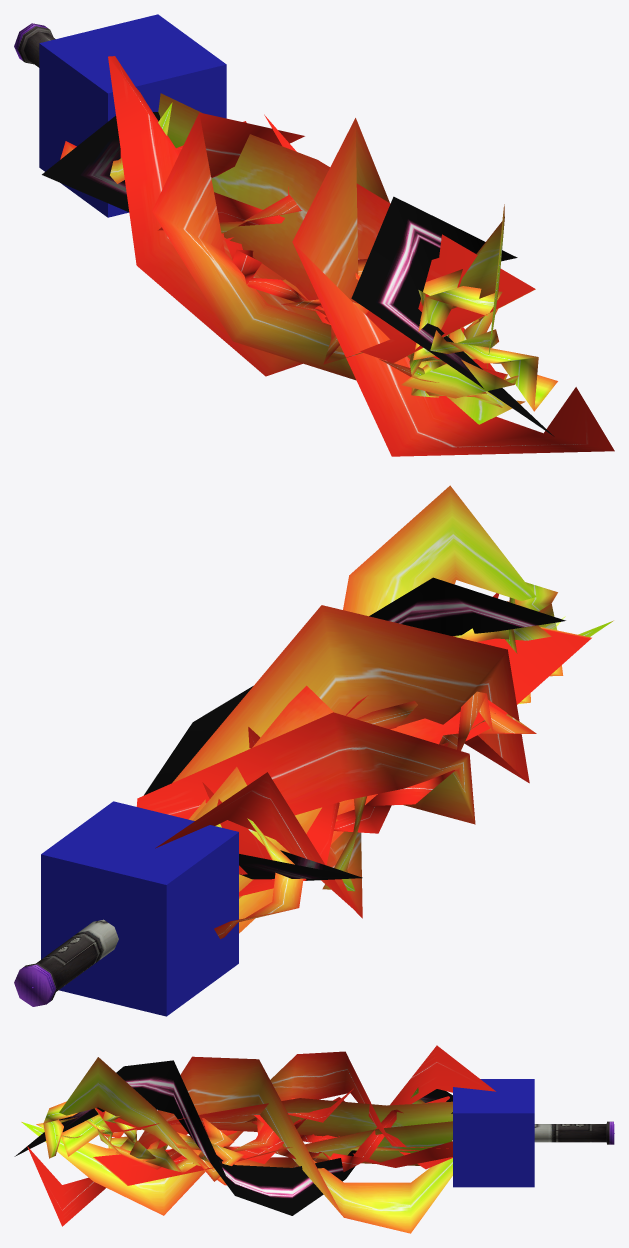
The picture shows the model from 3 angles, top to bottom: view 1: azimuth 30°, elevation 25°; view 2: azimuth 150°, elevation 25°; view 3: azimuth 270°, elevation 25°; orthographic projection. The views are drawn at different scales.
Visible parts, largest first — view 1: Object09, Object10, Box, Object04, Object03, Object08, Object11, Plane02, Object12, Plane254, W802:0; view 2: Box, Object09, Object10, Object03, Object08, Object04, W802:0, Object11, Plane02, Plane254, Object12, Plane31; view 3: Object09, Box, Object08, Object10, Object03, Object04, Plane31, Object12, Object11, Plane02, Plane254, W802:0.
Boxes of the visible parts, box(x1,y1,x2,y2) form: Object09: box(292, 118, 614, 456); Object10: box(152, 112, 525, 424); Box: box(39, 14, 226, 217); Object04: box(158, 93, 535, 363); Object03: box(108, 56, 504, 376); Object08: box(42, 112, 554, 436); Object11: box(225, 237, 557, 411); Plane02: box(158, 192, 502, 407); Object12: box(120, 121, 518, 398); Plane254: box(60, 102, 504, 405); W802:0: box(14, 23, 55, 67); Box: box(41, 801, 238, 1016); Object09: box(172, 593, 529, 783); Object10: box(136, 620, 613, 829); Object03: box(155, 485, 536, 918); Object08: box(144, 577, 565, 880); Object04: box(192, 627, 591, 898); W802:0: box(14, 919, 118, 1006); Object11: box(334, 582, 557, 833); Plane02: box(239, 629, 536, 896); Plane254: box(214, 616, 565, 938); Object12: box(202, 665, 563, 874); Plane31: box(189, 794, 377, 933); Object09: box(27, 1056, 452, 1233); Box: box(453, 1079, 534, 1187); Object08: box(14, 1060, 452, 1215); Object10: box(21, 1051, 448, 1215); Object03: box(59, 1045, 495, 1185); Object04: box(95, 1098, 452, 1137); Plane31: box(93, 1121, 452, 1185); Object12: box(36, 1096, 449, 1172); Object11: box(43, 1101, 452, 1181); Plane02: box(61, 1097, 452, 1169); Plane254: box(36, 1087, 424, 1169); W802:0: box(534, 1121, 614, 1144).
Bounding box in the file's own units: 0.5876 × 0.4859 × 1.61.
